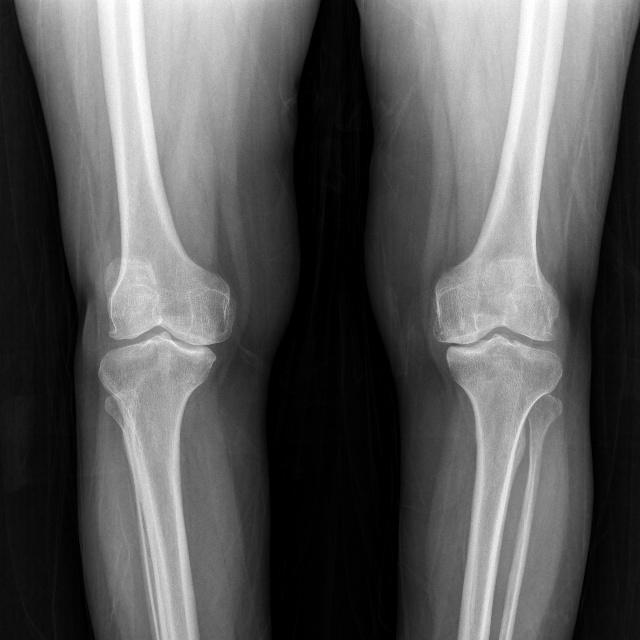Knee: (94, 268, 231, 410), (429, 266, 563, 402)
